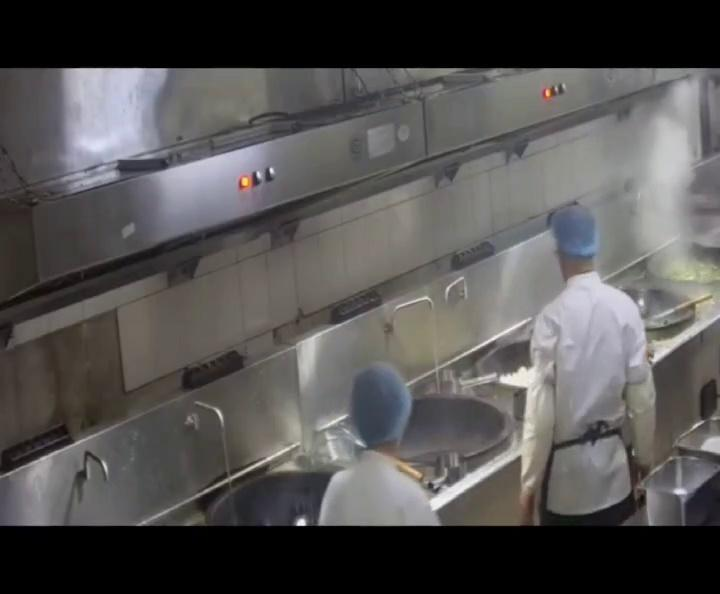gloves: (353, 363, 412, 442), (550, 199, 600, 256)
